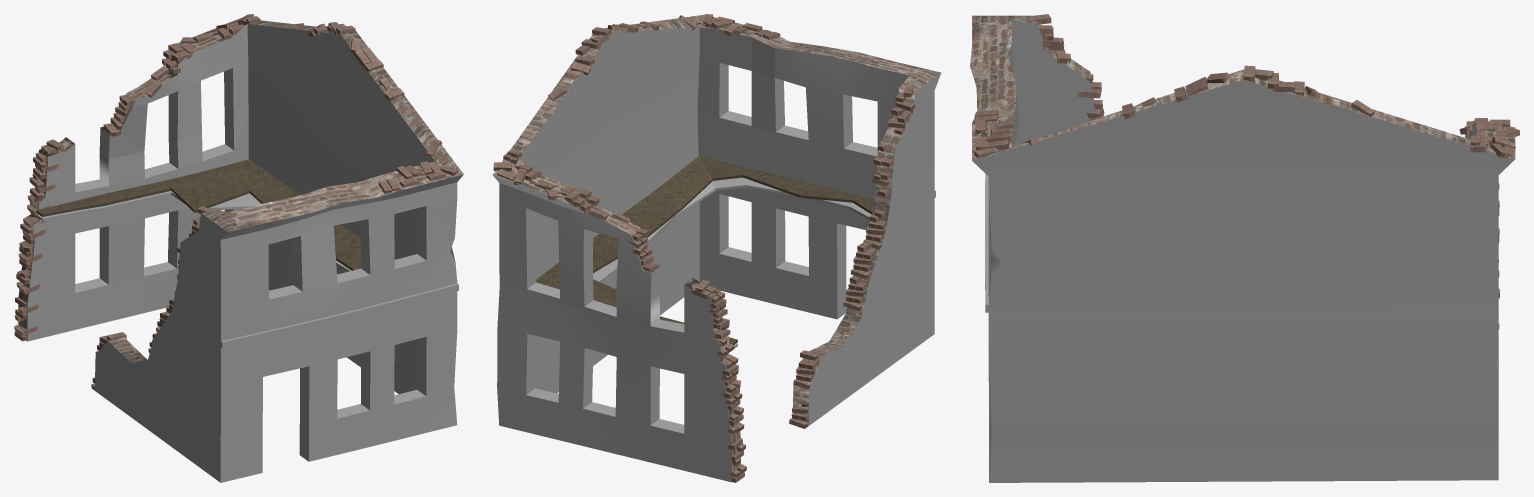
File: sm_rowBuilding_01_destroyed.fbx
3 views of the same model, side by side, from view 1: azimuth 30°, elevation 25°; view 2: azimuth 150°, elevation 25°; view 3: azimuth 270°, elevation 25° (orthographic). The views are drawn at different scales.
Visible parts, largest first — view 1: sm_rowbuilding_01_desroyed, bricks, floor; view 2: sm_rowbuilding_01_desroyed, bricks, floor; view 3: sm_rowbuilding_01_desroyed, bricks.
Boxes of the visible parts, x1=… form: sm_rowbuilding_01_desroyed: x1=18, y1=20, x2=463, y2=482; bricks: x1=14, y1=14, x2=458, y2=390; floor: x1=36, y1=159, x2=361, y2=271; sm_rowbuilding_01_desroyed: x1=492, y1=14, x2=941, y2=482; bricks: x1=493, y1=14, x2=915, y2=482; floor: x1=536, y1=156, x2=874, y2=348; sm_rowbuilding_01_desroyed: x1=970, y1=15, x2=1515, y2=482; bricks: x1=974, y1=14, x2=1519, y2=329.
Size of the model in its own units: 698 by 884 by 1079.
